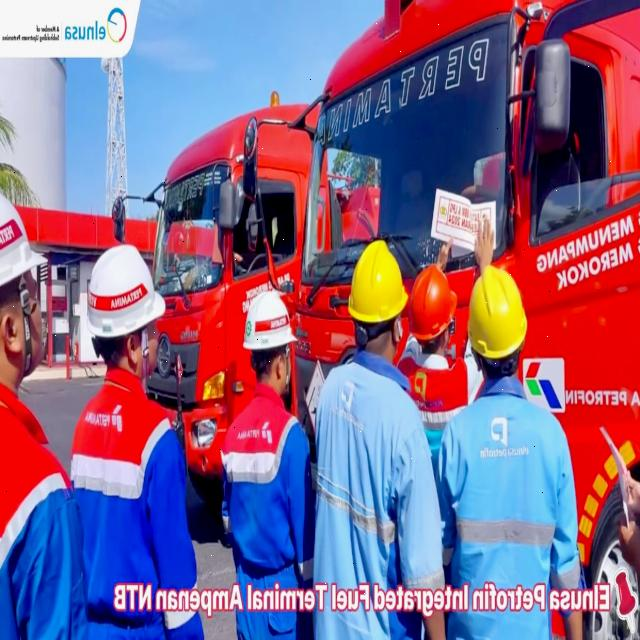Hardhat: (87, 250, 164, 336), (0, 182, 48, 290), (468, 269, 526, 356), (352, 242, 406, 319), (409, 270, 456, 340), (244, 294, 297, 348)
No Glove: (618, 520, 640, 606), (422, 609, 450, 640), (476, 218, 494, 264), (562, 611, 588, 640), (625, 471, 640, 514), (432, 240, 453, 266)
Overall Suit: (72, 367, 204, 640), (223, 378, 316, 640), (1, 380, 87, 640)
Strapped: (21, 272, 33, 360), (139, 322, 151, 371), (284, 342, 291, 383)
